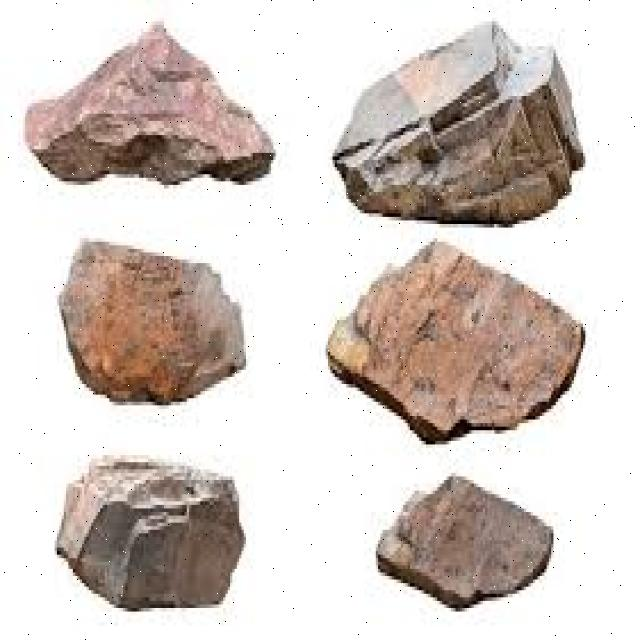Metamorphic: (316, 21, 610, 231), (316, 249, 594, 437), (25, 426, 278, 618), (20, 25, 278, 192), (48, 245, 269, 409), (346, 476, 558, 604)
